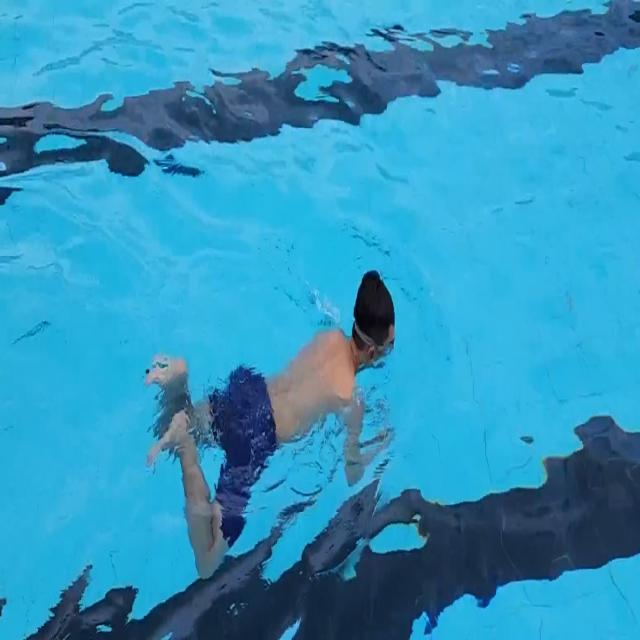Swimming: (144, 268, 398, 580)
